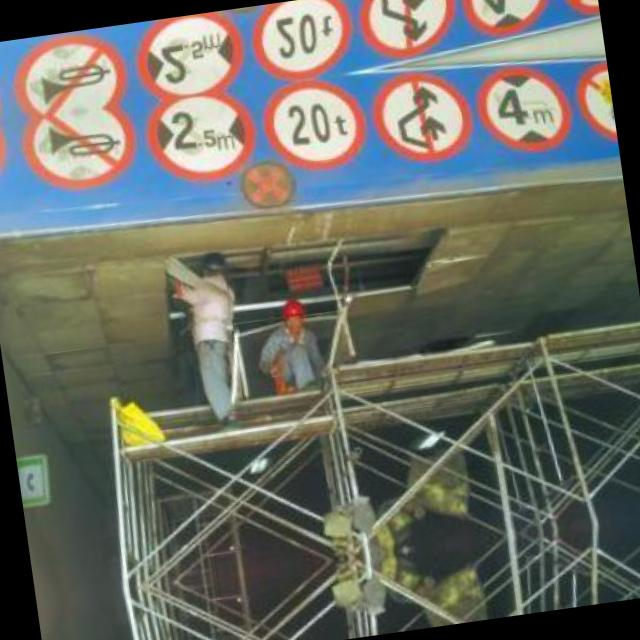helmet: (194, 246, 240, 300), (276, 292, 310, 340)
